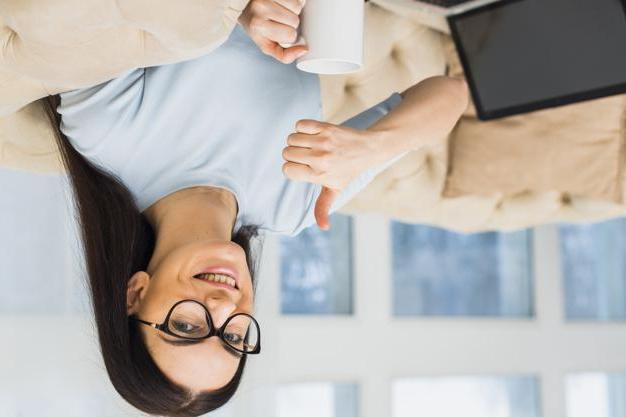thumbsdown: (282, 120, 342, 232)
